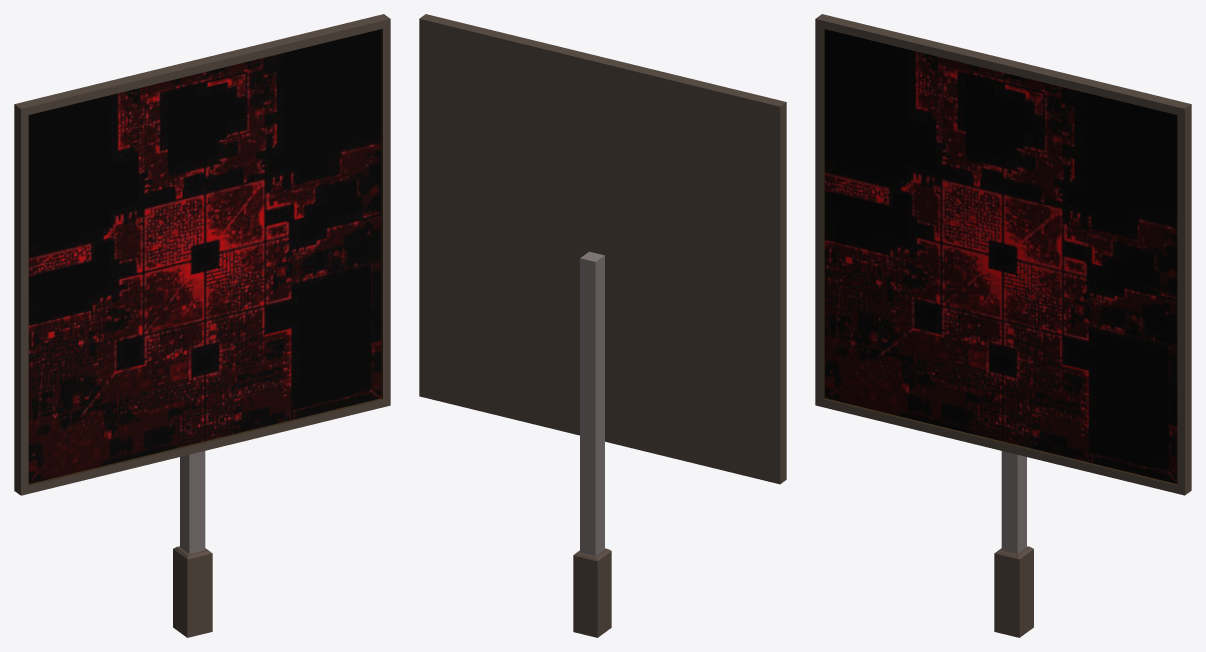
The model's file is first_auction.glb.
3 views of the same model, side by side, from view 1: azimuth 30°, elevation 25°; view 2: azimuth 150°, elevation 25°; view 3: azimuth 330°, elevation 25° (orthographic). The views are drawn at different scales.
Parts seen in each view (by area): view 1: first-auction; view 2: first-auction; view 3: first-auction.
Part boxes in pixels (x1=…): first-auction: x1=14, y1=14, x2=390, y2=637; first-auction: x1=419, y1=14, x2=786, y2=637; first-auction: x1=815, y1=14, x2=1191, y2=637.
Size of what is drawn, in the model's own units: 3.25 by 4.84 by 0.3174.
Materials: 2 (2 with a texture image).
